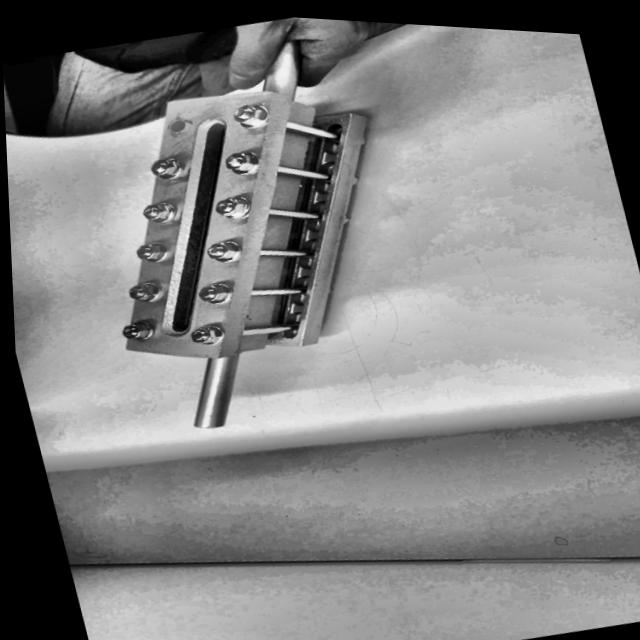ShuiWeiQi_11: (32, 60, 418, 465)
